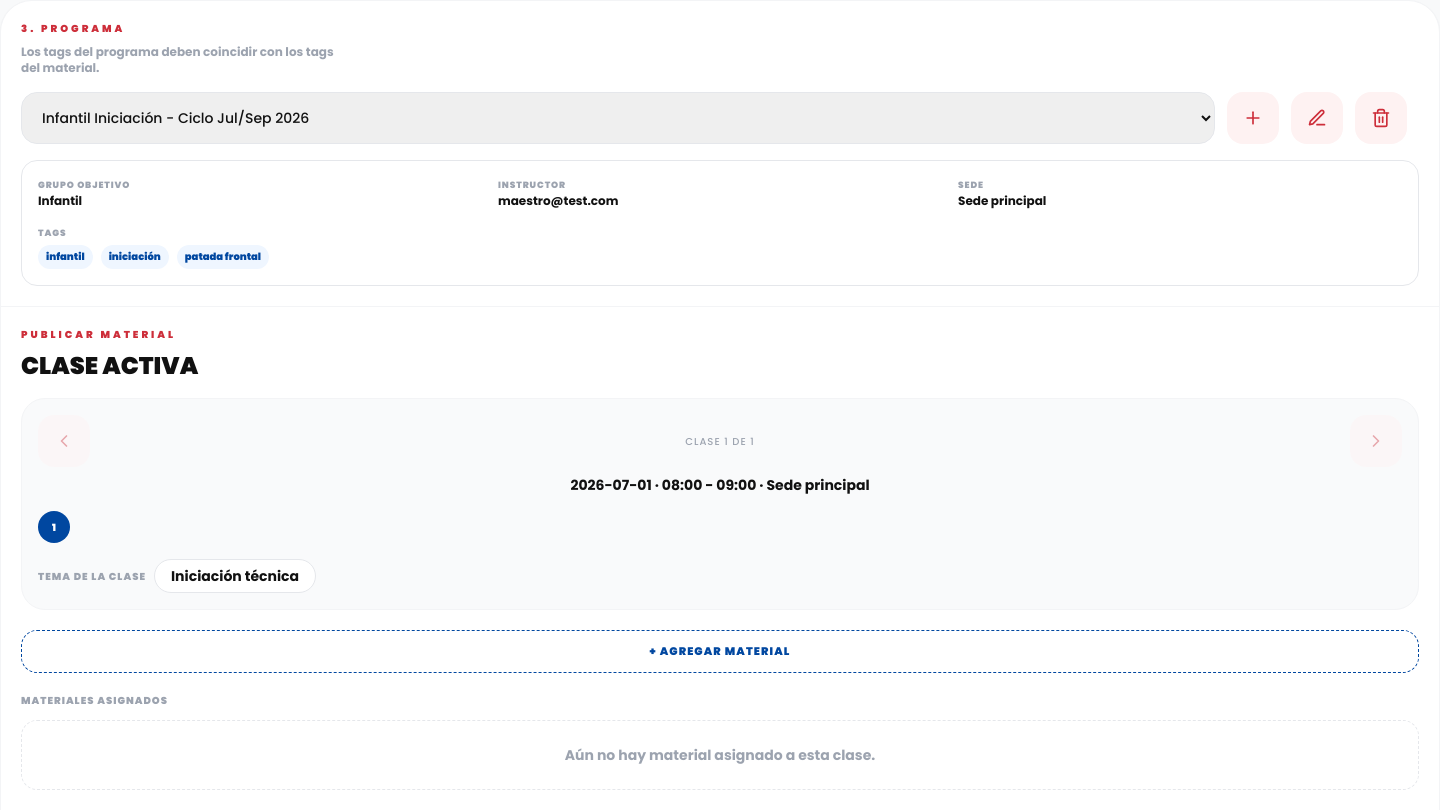
pildora de tema: editable inline, persiste sin abrir el asistente › al perder el foco (blur), persiste el nuevo tema via actualizarTemaJornada sin abrir el asistente
Click the button with aria-label "tema de la clase" at [235, 576], box [154,559,316,593]
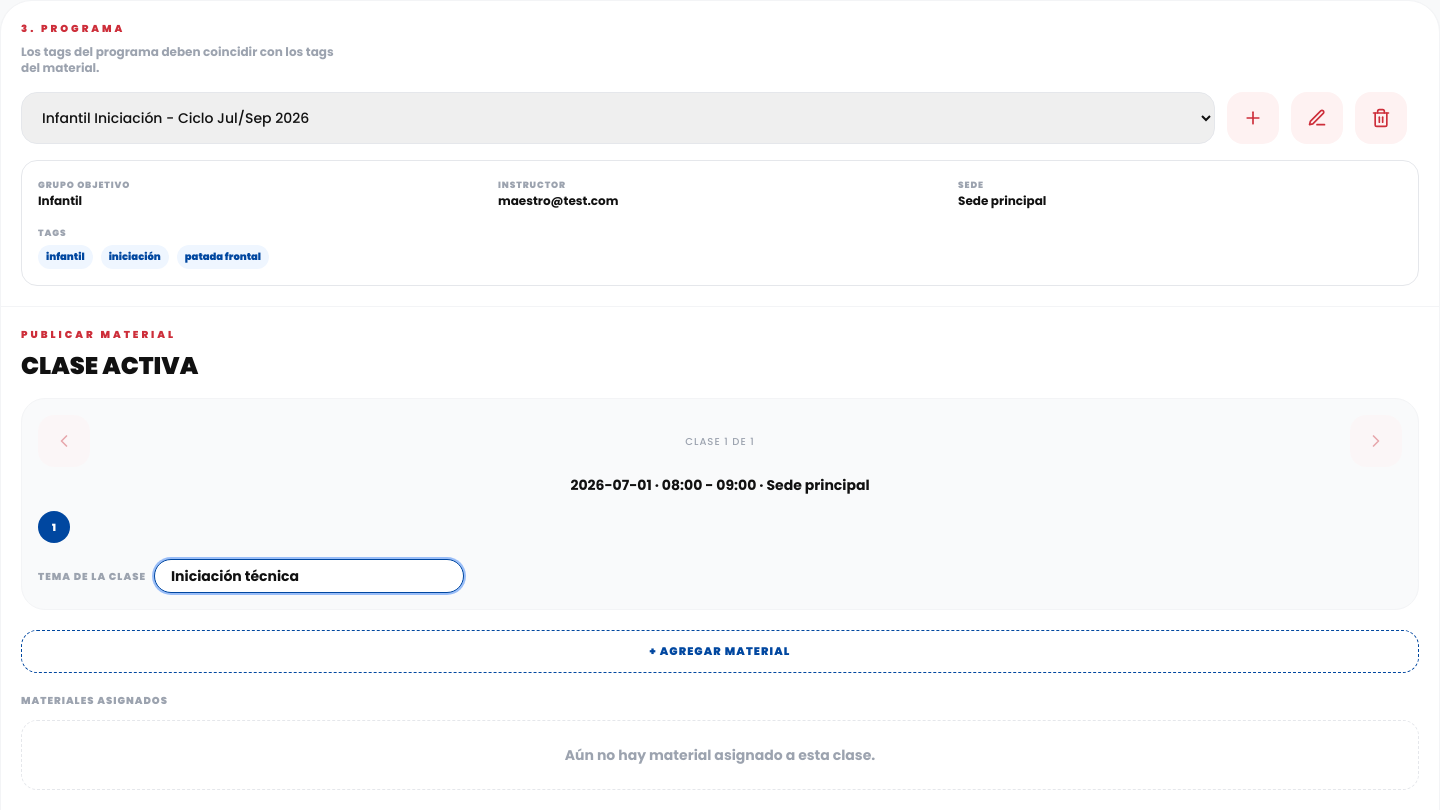
Replace the text in the field named "tema de la clase" with "Patadas frontales" at [309, 576], box [154,559,464,593]
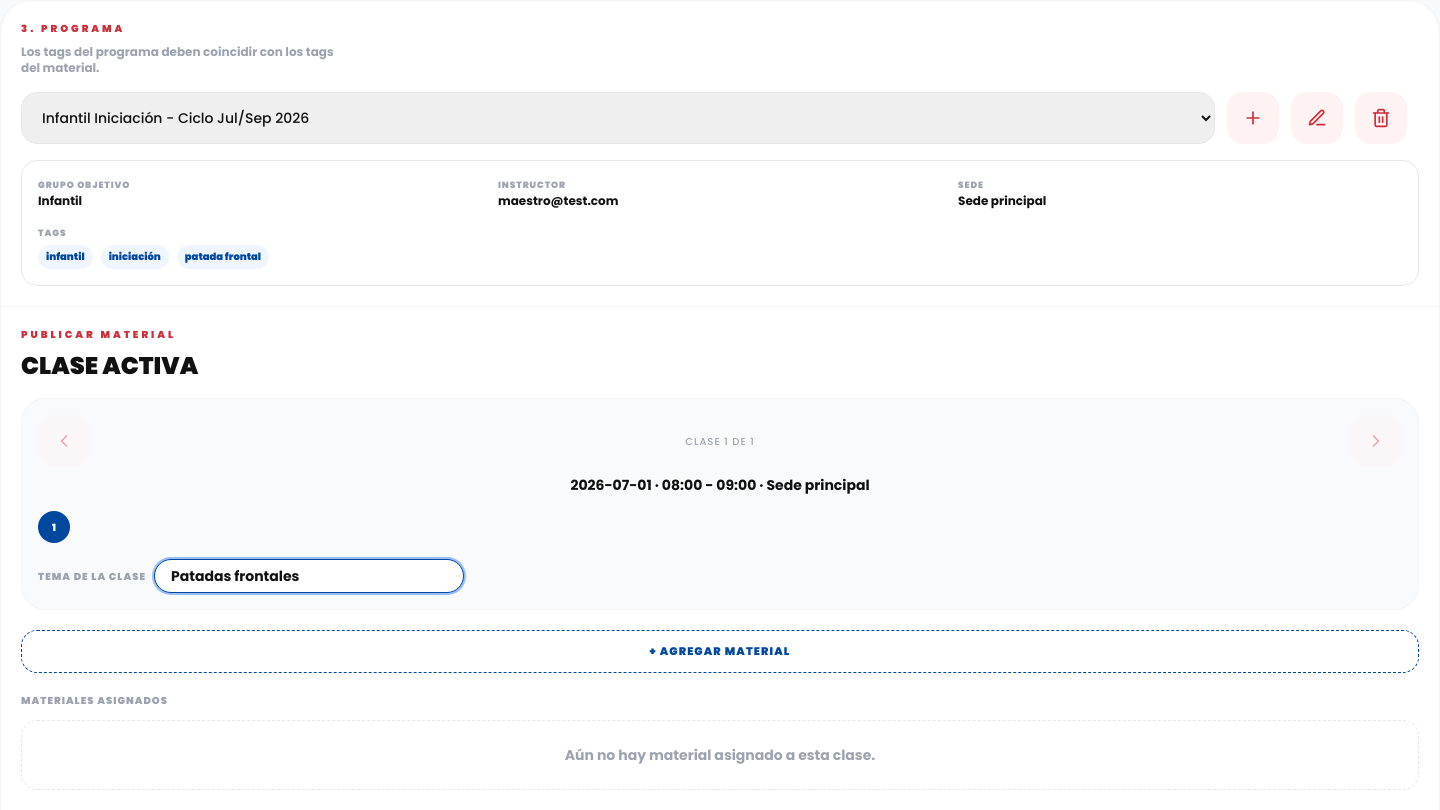
Press Tab
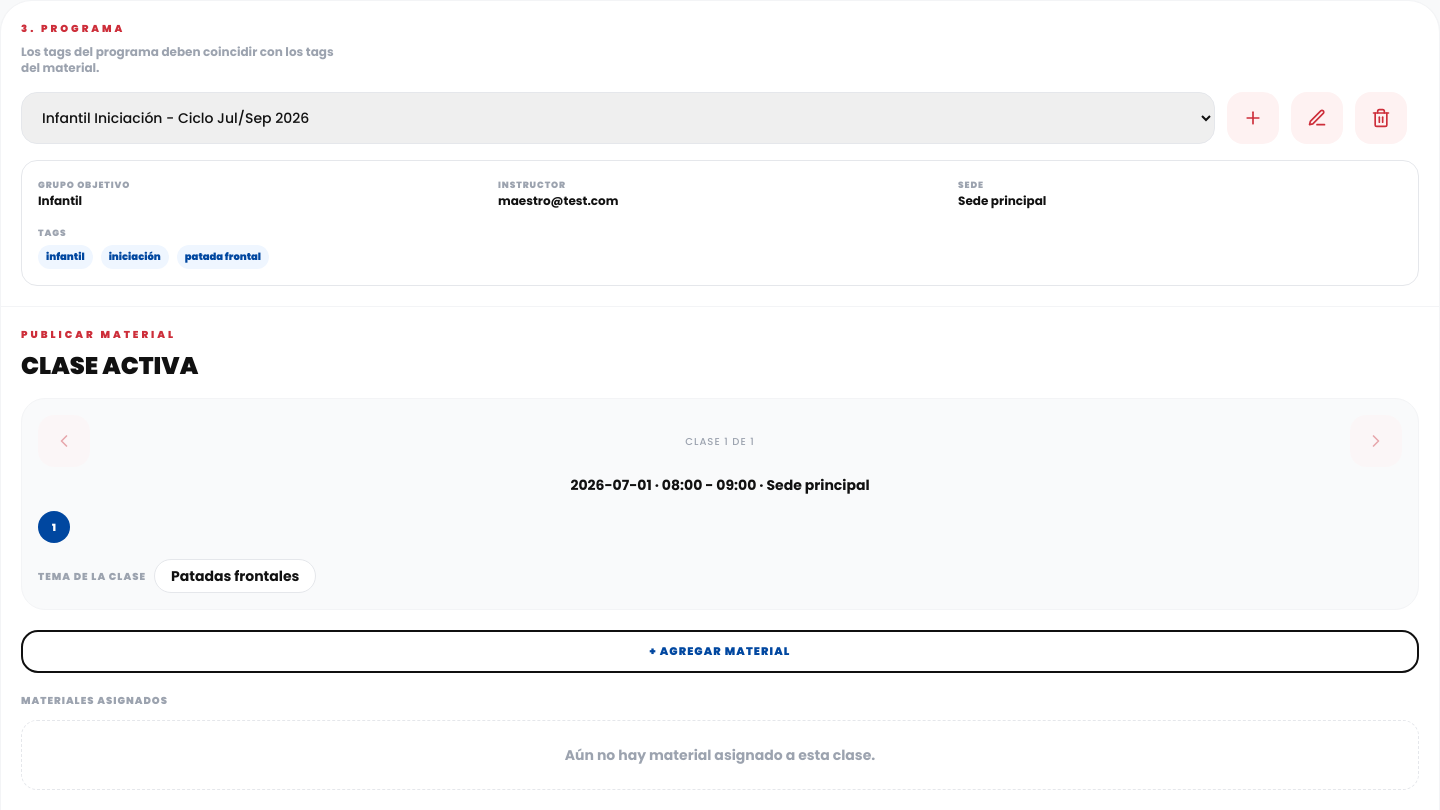
Expected: the button "Patadas frontales" is shown, [154,559,316,593]
